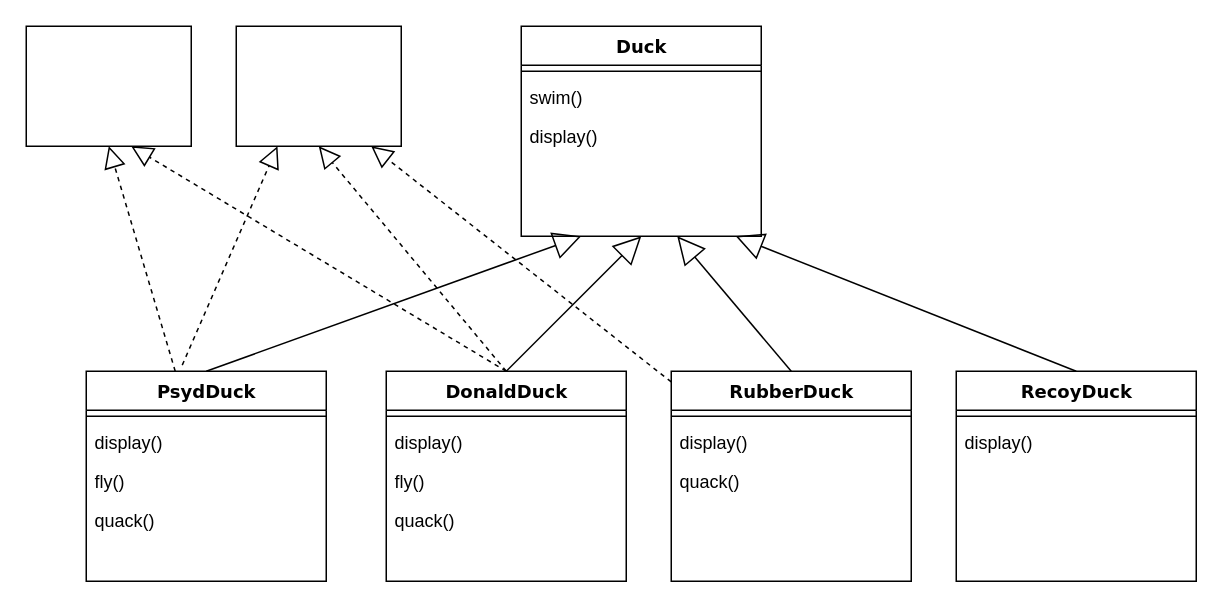
This 1223x608 diagram has some shape labels left out. Here are the shapes that lost their labels. From the top down, the centre of each, then its label:
At point 108,85: "<<Interface>> Flyable fly()".
At point 318,85: "<<Interface>> Quackable quack()".
